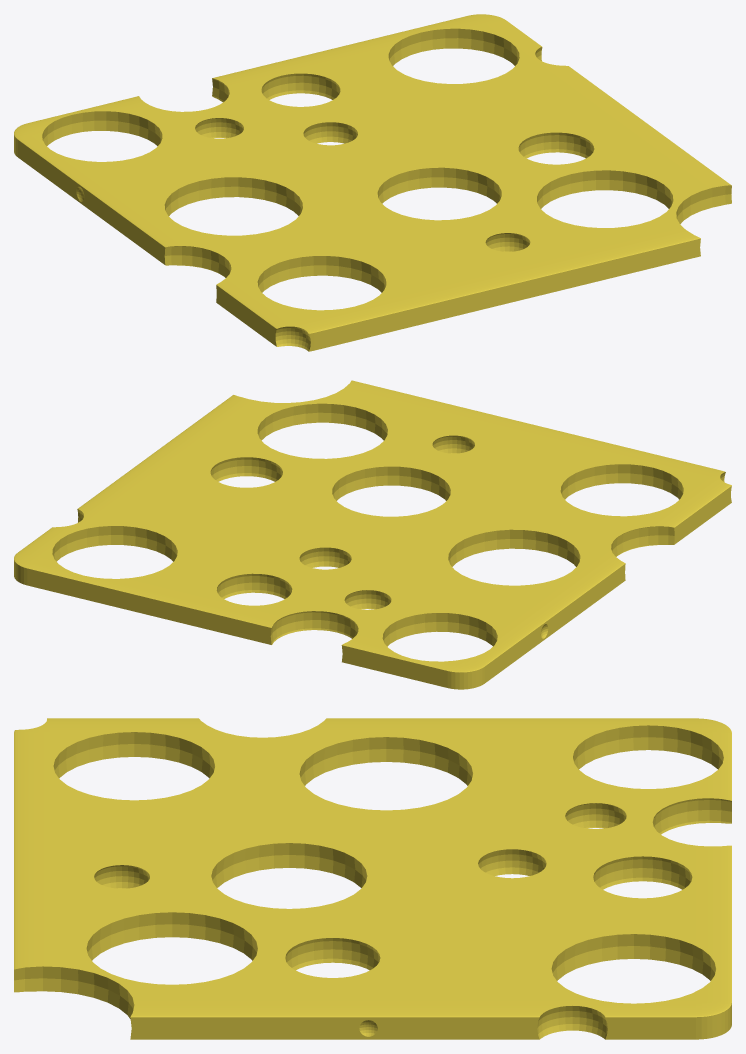
Rendered from cheese.glb.
3 views of the same model, one above another, from view 1: azimuth 30°, elevation 25°; view 2: azimuth 150°, elevation 25°; view 3: azimuth 270°, elevation 25° (orthographic). The views are drawn at different scales.
Visible parts, largest first — view 1: Cube; view 2: Cube; view 3: Cube.
Boxes of the visible parts, x1,y1,x2,y2 form: Cube: (14, 14, 731, 351); Cube: (14, 380, 731, 689); Cube: (14, 718, 731, 1039).
Size of the model in its own units: 0.8065 by 0.0313 by 0.8191.
